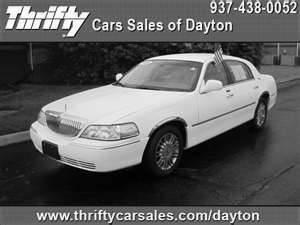car: (26, 49, 283, 179)
